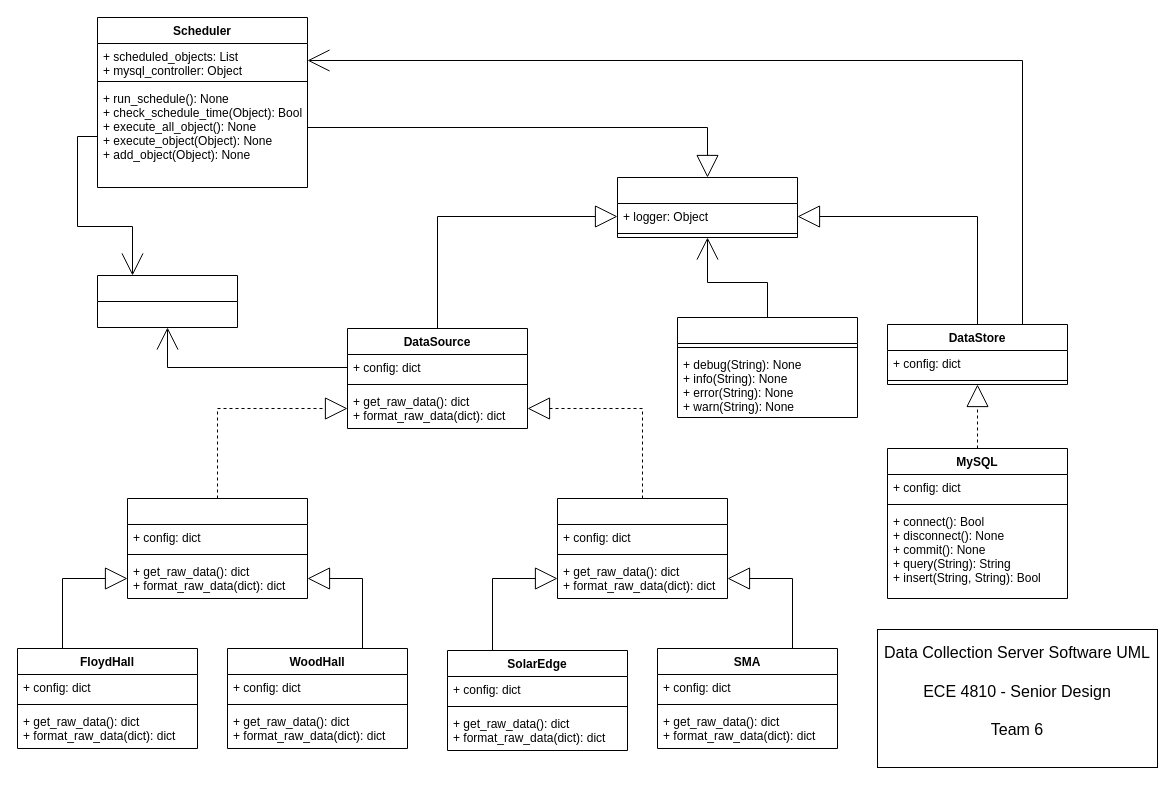
Image size: 1175x785. Some labels were removed from this diagram. Each missing label, with the box of its shape:
Logging: (676, 316, 858, 418)
Main: (96, 274, 238, 328)
Resource: (616, 176, 798, 238)
SolarArray: (556, 498, 728, 598)
WeatherStation: (126, 498, 308, 598)
